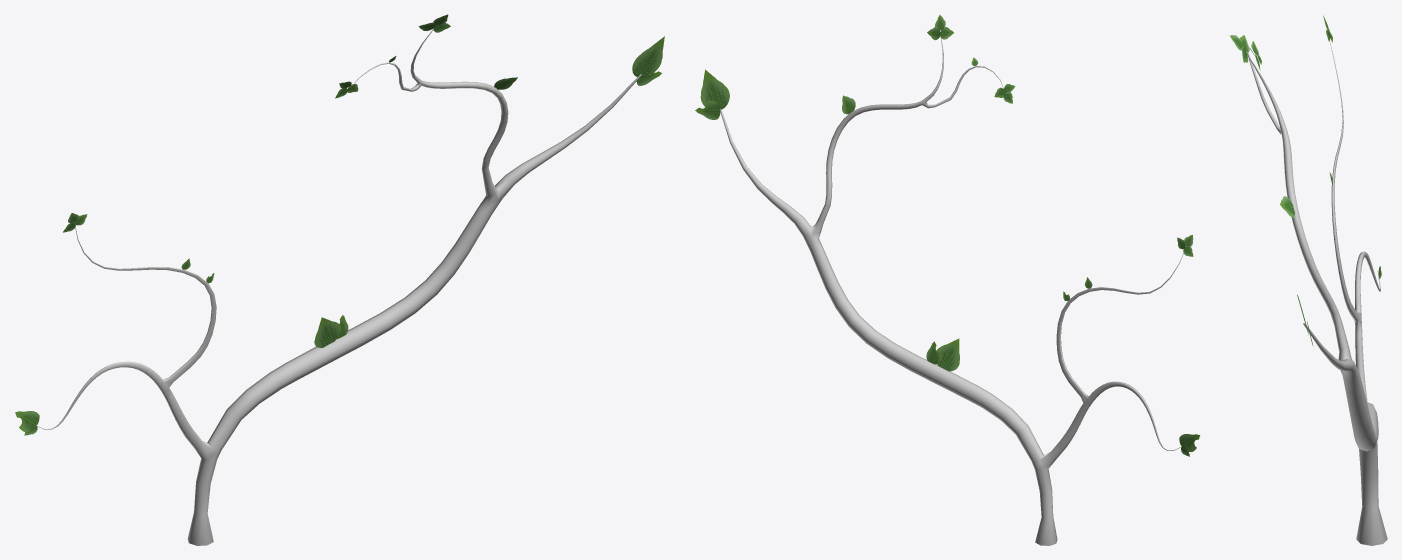
Rendered from plante_grimpante.fbx.
The picture shows the model from 3 angles, left to right: view 1: azimuth 30°, elevation 25°; view 2: azimuth 150°, elevation 25°; view 3: azimuth 270°, elevation 25°; orthographic projection. The views are drawn at different scales.
Visible parts, largest first — view 1: plante_grimpante, petales23; view 2: plante_grimpante, petales23; view 3: plante_grimpante.
Boxes of the visible parts, x1=… form: plante_grimpante: x1=36, y1=28, x2=641, y2=545; petales23: x1=632, y1=36, x2=664, y2=77; plante_grimpante: x1=720, y1=37, x2=1183, y2=545; petales23: x1=700, y1=69, x2=729, y2=109; plante_grimpante: x1=1247, y1=40, x2=1387, y2=545.
Size of the model in its own units: 690 by 559 by 132.
